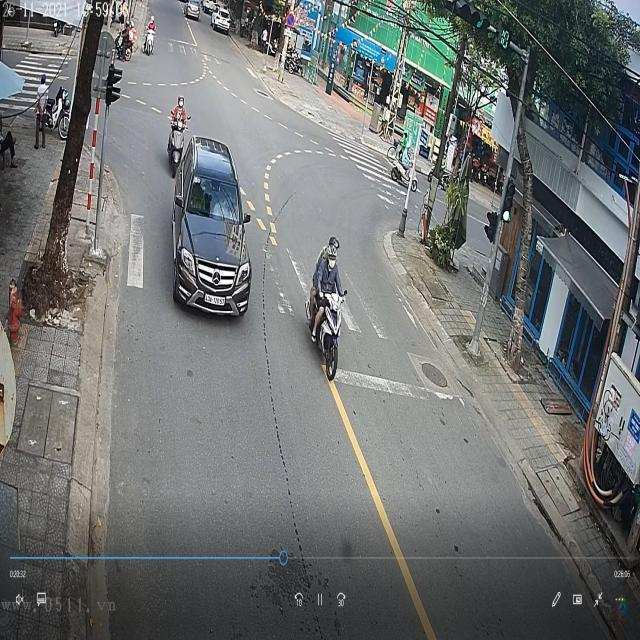bus: (172, 133, 253, 316)
car: (186, 2, 201, 20)
motorcycle: (305, 288, 347, 377), (167, 117, 186, 178)
